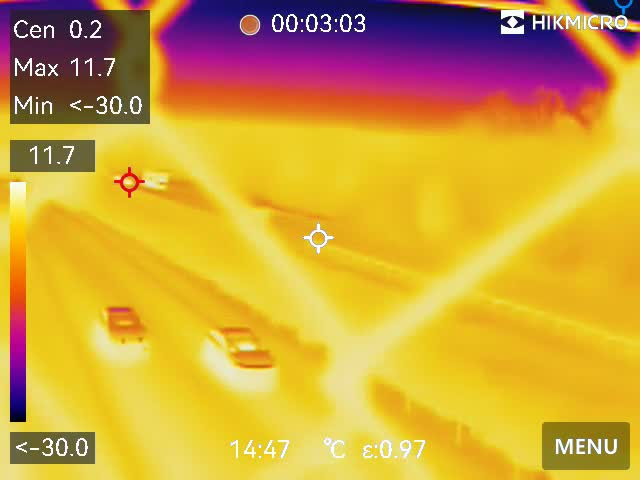heavyTruck: (137, 170, 168, 183)
vehicle: (197, 327, 277, 379), (99, 299, 149, 359)
